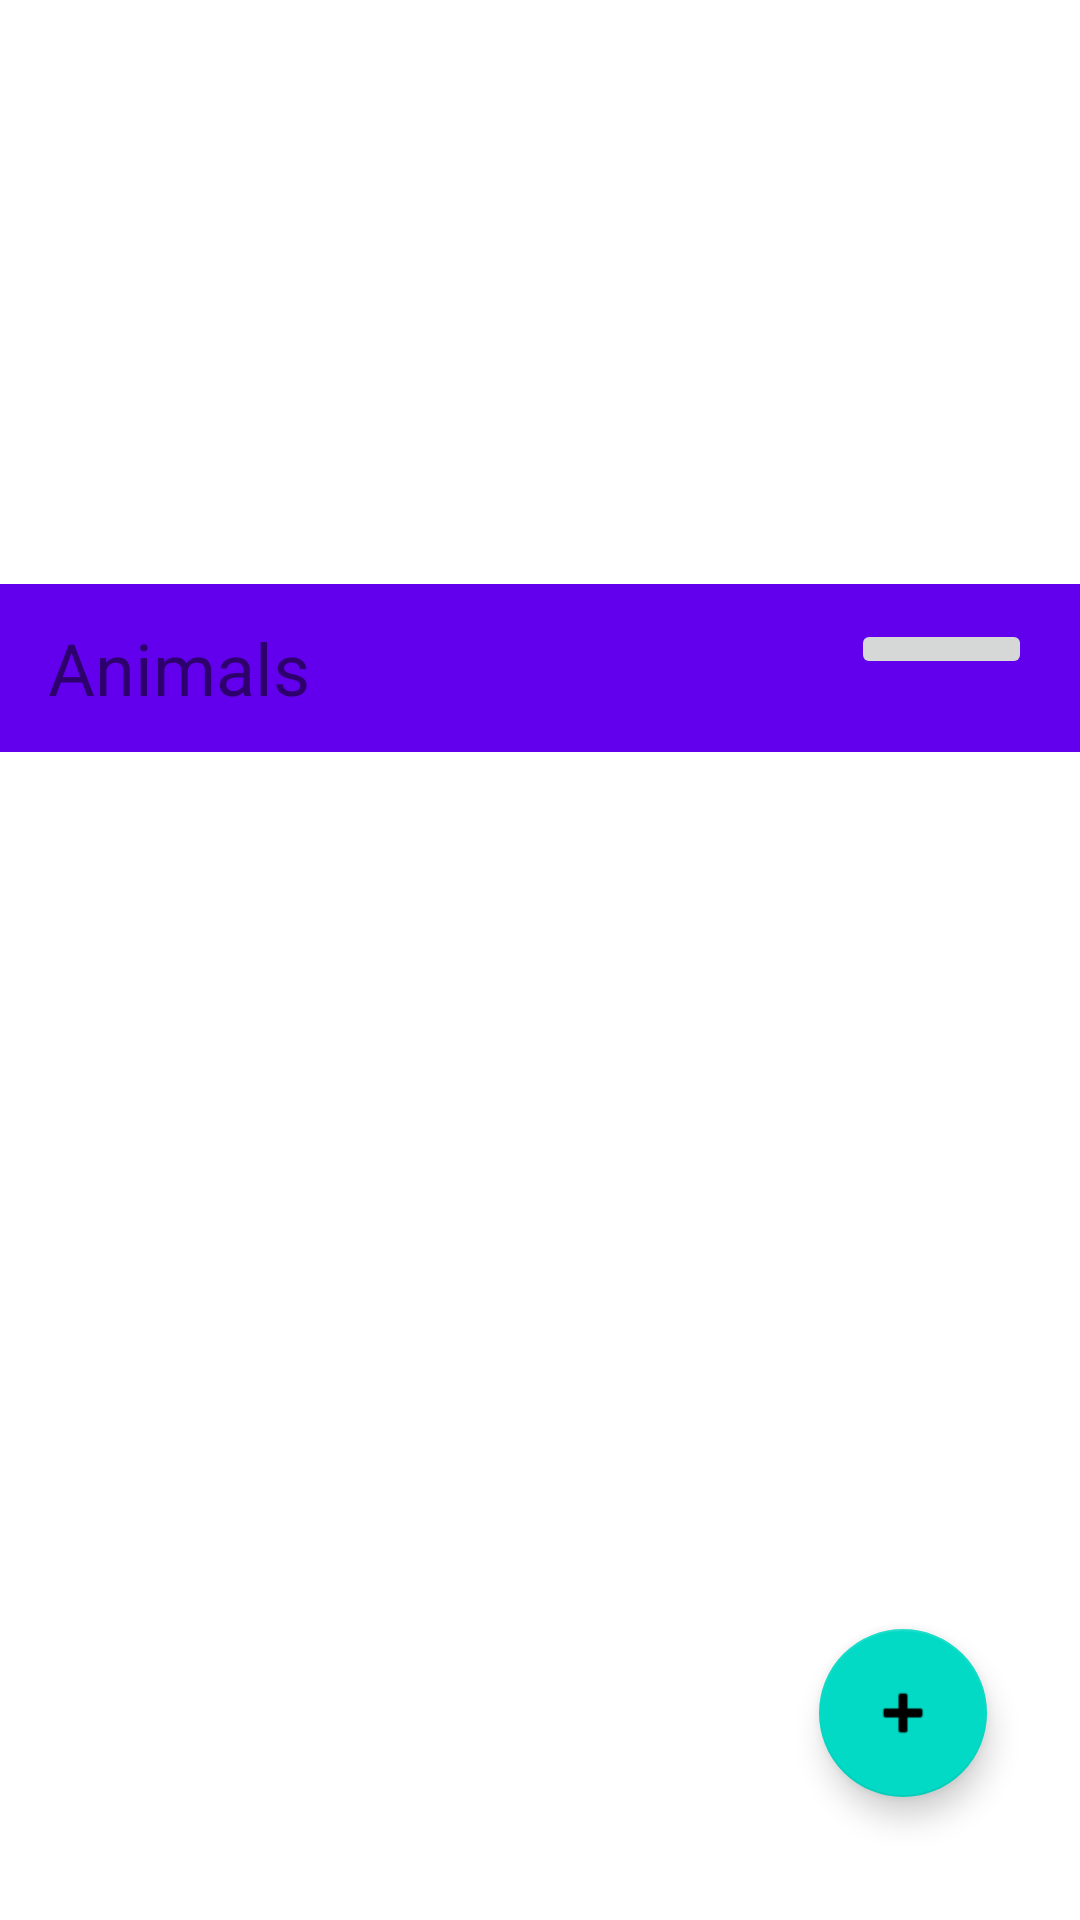

Where to tap for icons on this 1080×1920 app screen, as point (x, y):
add: point (903, 1713)
